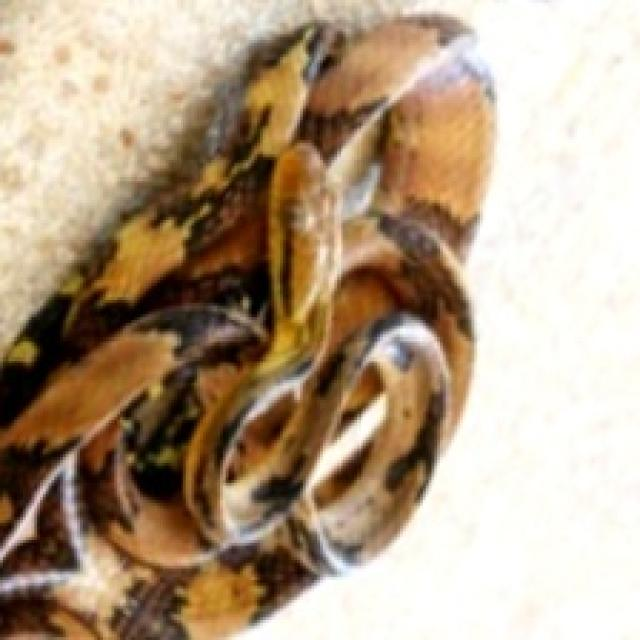dog-toothed cat snake: (0, 14, 491, 637)
